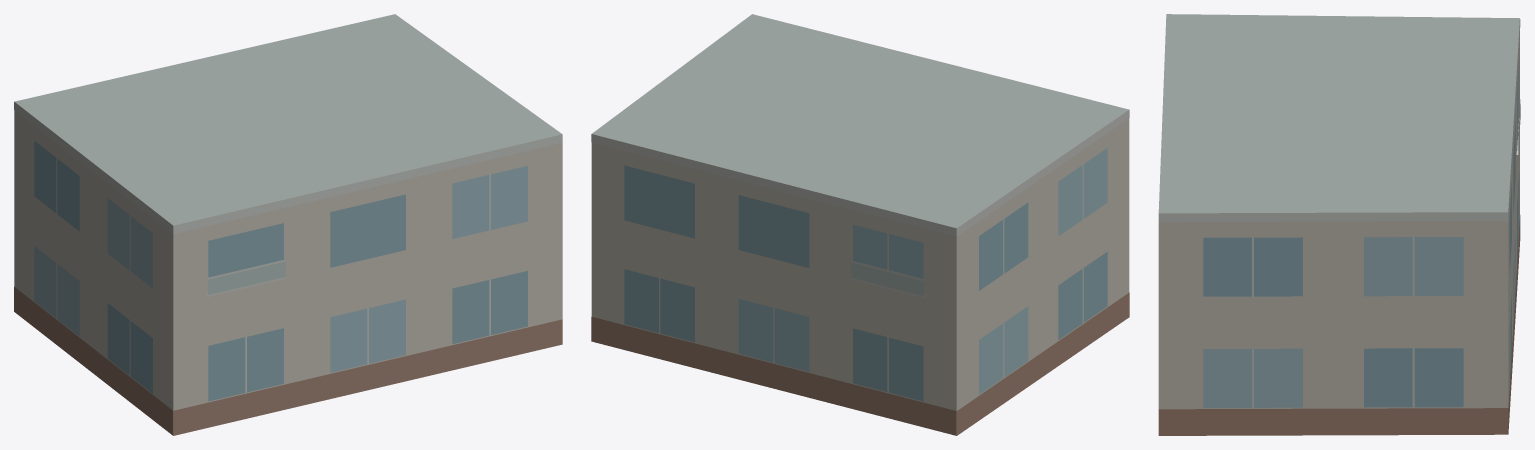
The model's file is survey-upis-32497109.glb.
3 renders of one model, left to right at view 1: azimuth 30°, elevation 25°; view 2: azimuth 150°, elevation 25°; view 3: azimuth 270°, elevation 25°, orthographic. The views are drawn at different scales.
Parts seen in each view (by area): view 1: survey-upis-32497109.tmp; view 2: survey-upis-32497109.tmp; view 3: survey-upis-32497109.tmp.
Part boxes in pixels (x1,y1,x2,y2): survey-upis-32497109.tmp: (14,14,562,435); survey-upis-32497109.tmp: (591,14,1129,435); survey-upis-32497109.tmp: (1158,14,1520,435).
Bounding box in the file's own units: 11.73 × 6.1 × 9.
